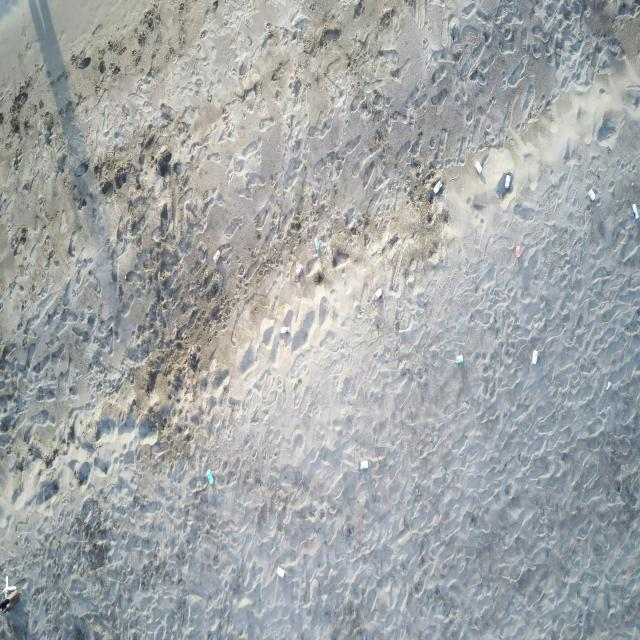tin-and-aluminum-cans: (630, 203, 640, 221), (433, 179, 443, 195), (276, 565, 286, 580), (213, 248, 222, 264), (504, 172, 512, 190), (206, 469, 214, 485), (475, 160, 483, 176), (587, 189, 597, 201), (374, 287, 382, 302), (531, 350, 538, 366), (280, 325, 290, 335), (295, 264, 302, 277), (314, 236, 320, 251), (360, 460, 368, 471), (515, 245, 521, 257), (457, 355, 464, 364)
